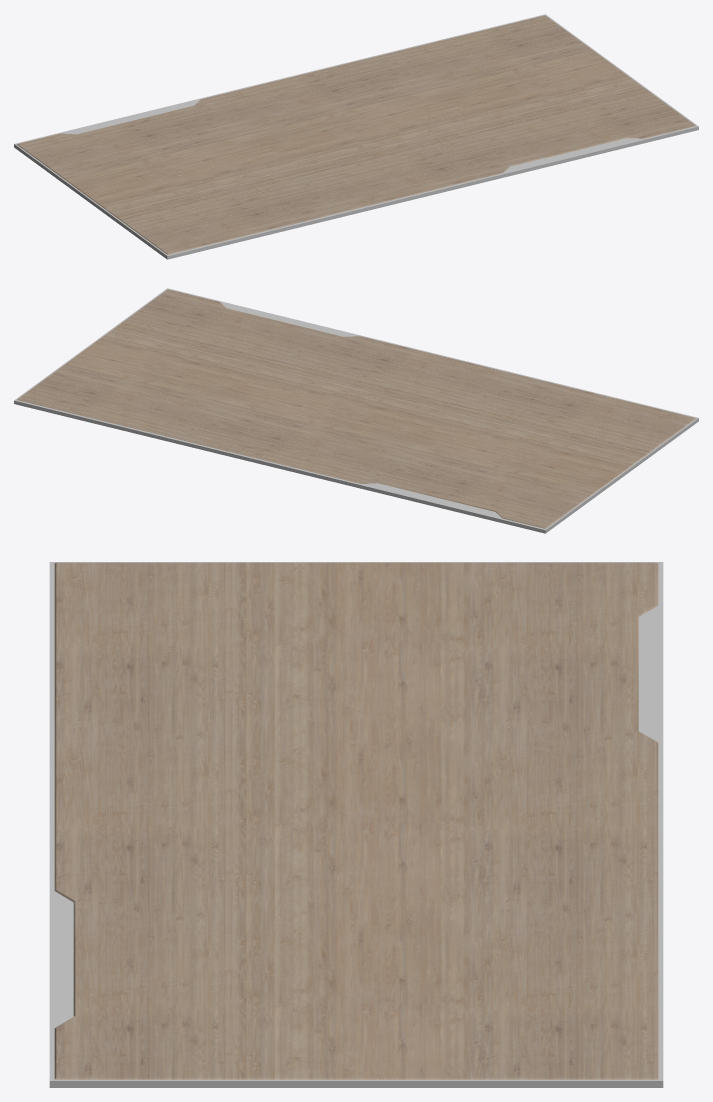
The model's file is M_F_Deco_005_8x4.fbx.
3 views of the same model, one above another, from view 1: azimuth 30°, elevation 25°; view 2: azimuth 150°, elevation 25°; view 3: azimuth 270°, elevation 25° (orthographic). The views are drawn at different scales.
Visible parts, largest first — view 1: M_F_Deco_005_8x4; view 2: M_F_Deco_005_8x4; view 3: M_F_Deco_005_8x4.
Boxes of the visible parts, box(x1,y1,x2,y2) form: M_F_Deco_005_8x4: box(14, 14, 698, 259); M_F_Deco_005_8x4: box(14, 288, 698, 533); M_F_Deco_005_8x4: box(49, 562, 663, 1087).
Bounding box in the file's own units: 8 × 0.0597 × 4.
